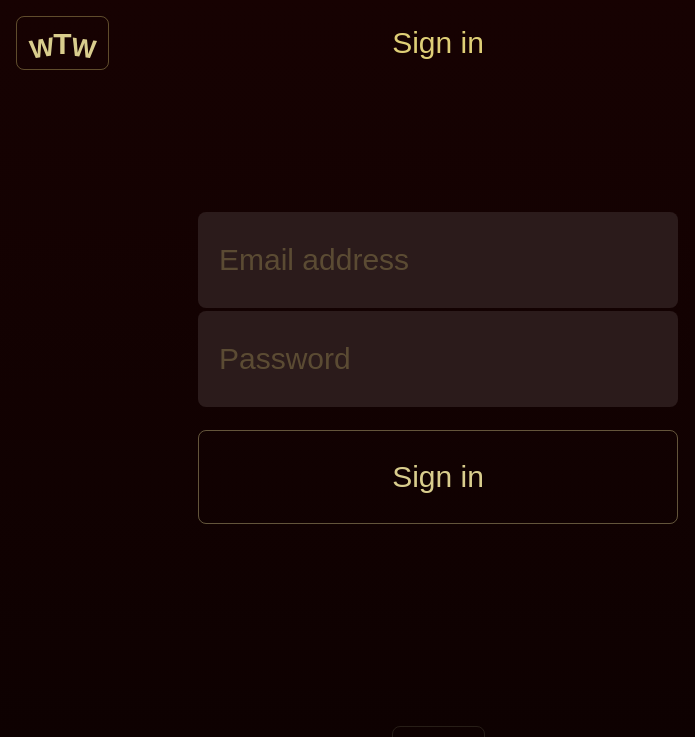
Test: Component: SignInPage › should render SignInPage with empty email and password error
The image size is (695, 737).
Click the button with test id "test-button".
click(438, 477)  # box [198,430,678,524]
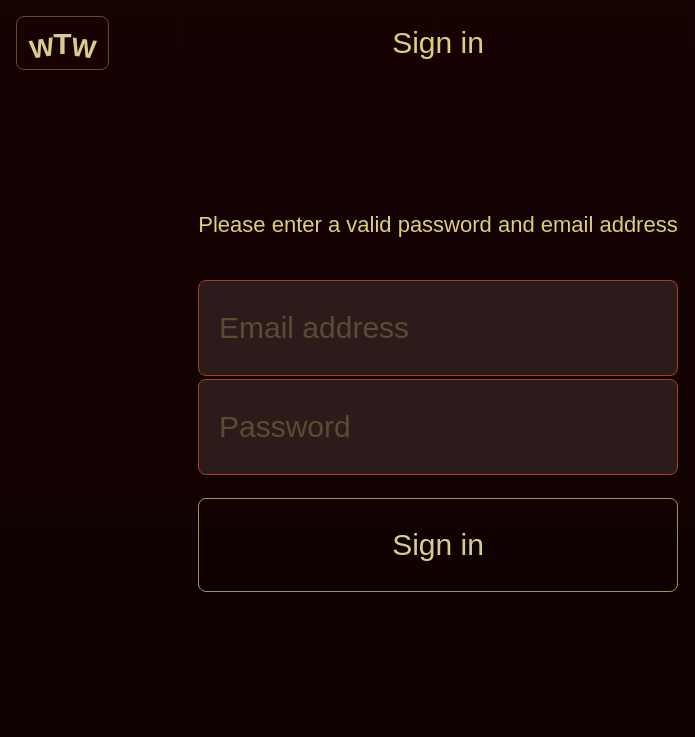
Expected: the text "Please enter a valid password and email address" is shown, [198,212,678,238]
